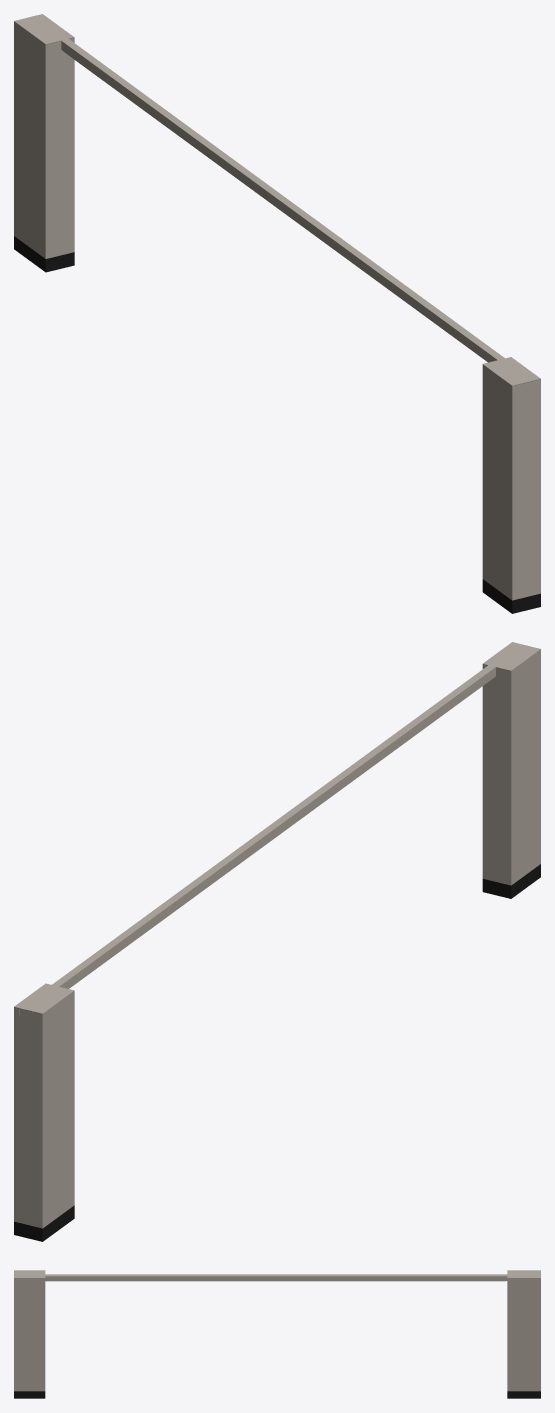
File: Wall 6.FBX
The picture shows the model from 3 angles, top to bottom: view 1: azimuth 30°, elevation 25°; view 2: azimuth 150°, elevation 25°; view 3: azimuth 270°, elevation 25°; orthographic projection. The views are drawn at different scales.
Visible parts, largest first — view 1: Wall 6; view 2: Wall 6; view 3: Wall 6.
Part boxes in pixels (x1=…): Wall 6: x1=14, y1=14, x2=540, y2=613; Wall 6: x1=14, y1=642, x2=540, y2=1241; Wall 6: x1=14, y1=1270, x2=540, y2=1398.
Size of the model in its own units: 395 by 3002 by 11882.
Materials: 2 (2 with a texture image).
